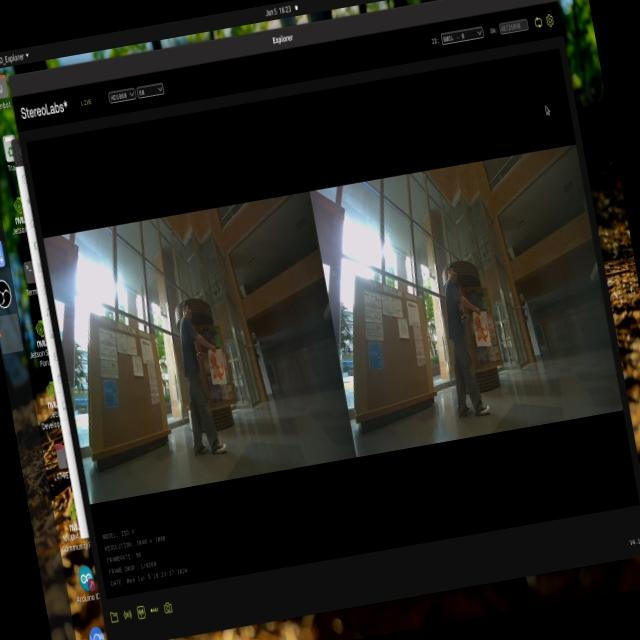red: (204, 346, 230, 386), (475, 305, 493, 347)
